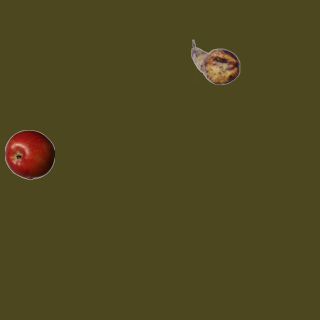Apple Braeburn: (4, 129, 54, 179)
Pear Abate: (190, 37, 240, 87)
